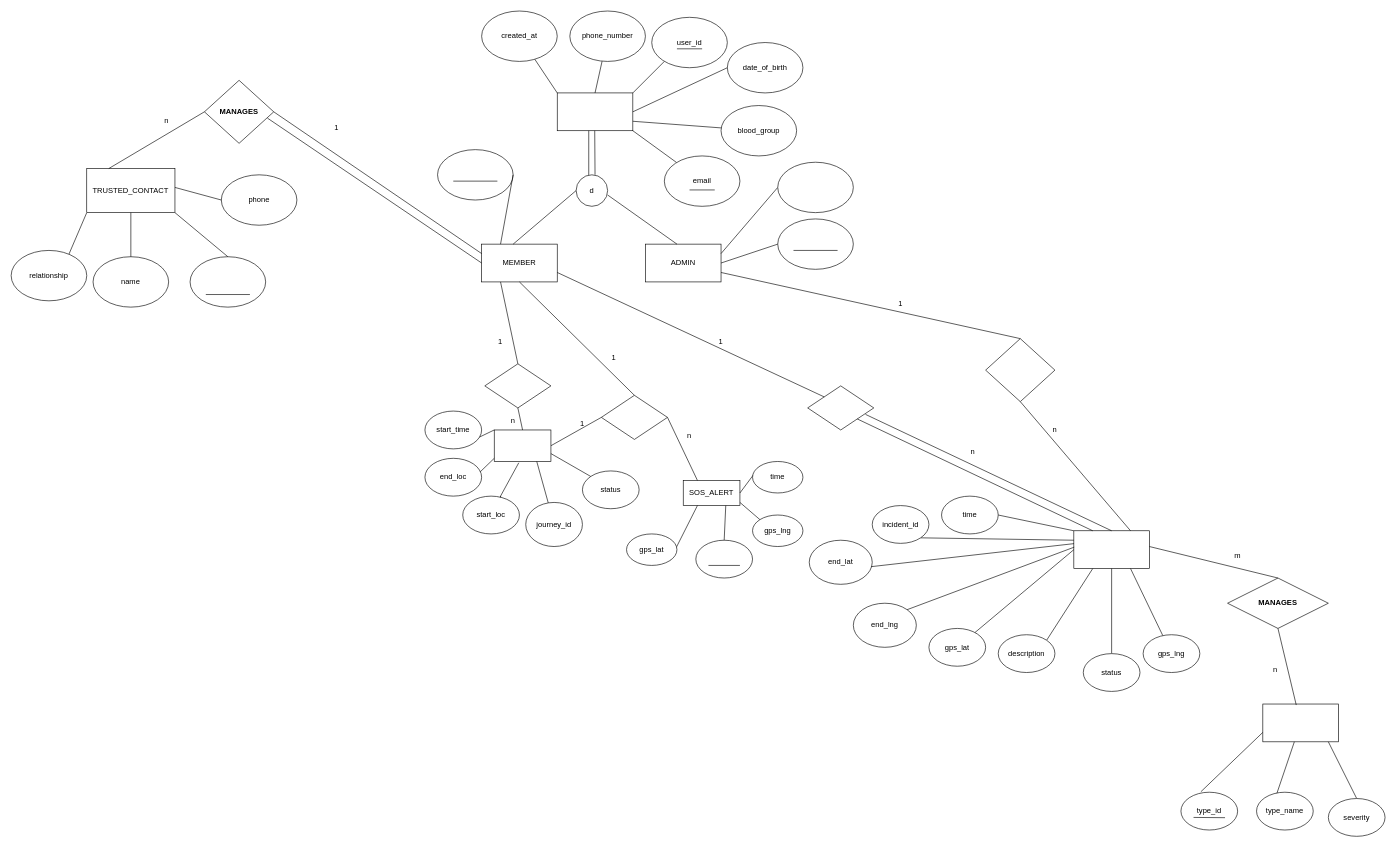
This 1396x847 diagram has some shape labels left out. Each missing label, with the box of its shape:
alert_id: (695, 540, 753, 578)
contact_id: (189, 256, 266, 307)
department: (777, 162, 853, 213)
employee_id: (777, 218, 853, 269)
INCIDENT: (1073, 530, 1149, 569)
INCIDENT_TYPE: (1262, 703, 1338, 742)
JOURNEY: (494, 429, 551, 461)
member_id: (437, 149, 513, 200)
REPORTS: (807, 385, 874, 430)
TAKES: (484, 363, 551, 408)
TRIGGERS: (601, 395, 667, 439)
USER: (557, 92, 633, 131)
VERIFIES: (985, 338, 1055, 402)
